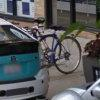Bicycle: (20, 13, 81, 80)
